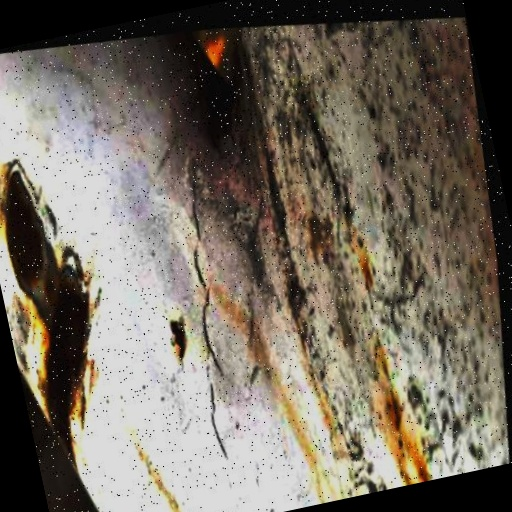crack: (110, 146, 290, 484)
